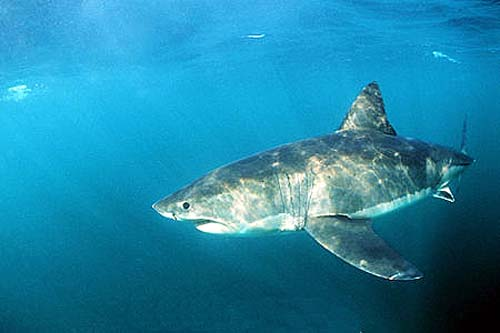Carcharodon_carcharias: (128, 77, 478, 290)
